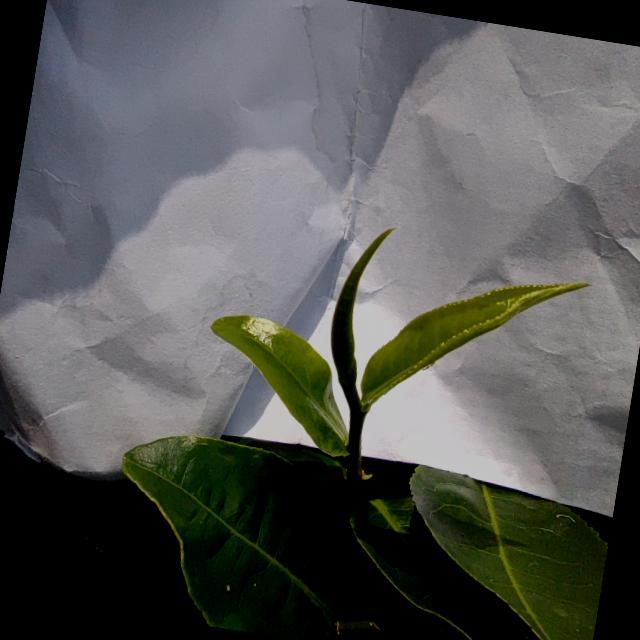Stem: (351, 408, 364, 424)
